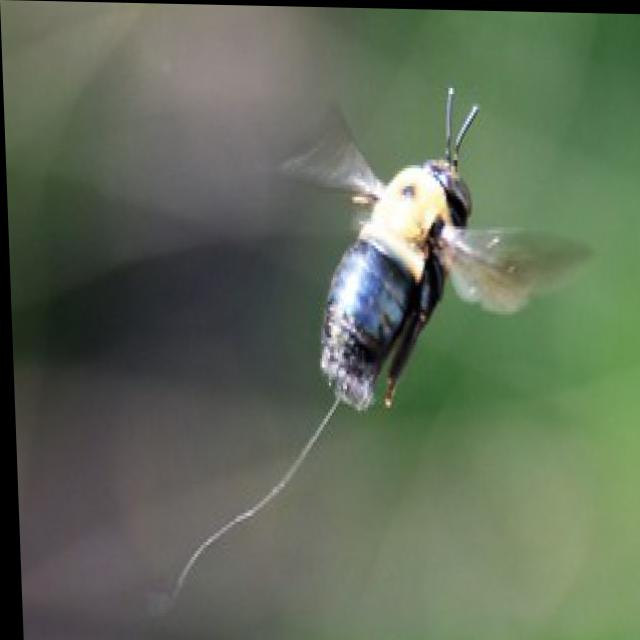Abeille: (273, 57, 598, 465)
